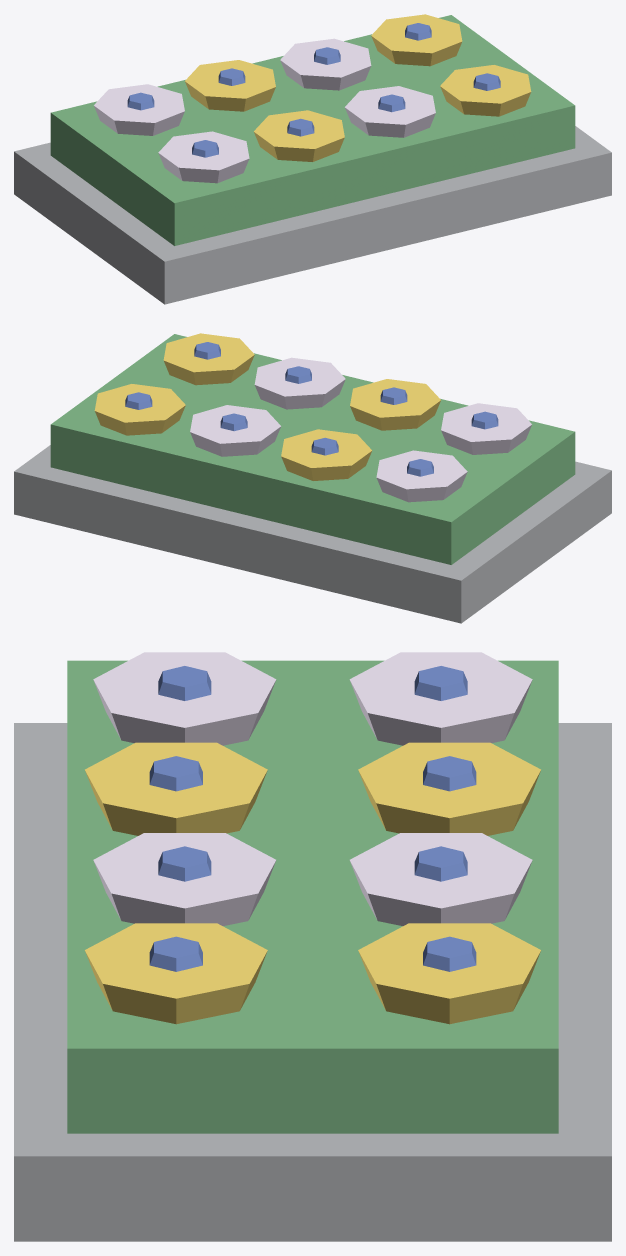
Rendered from flora_42_osteospermum_ecklonis_tham_cuc_mat_xanh_chau_phi_vuon_hoa_tp.glb.
3 views of the same model, one above another, from view 1: azimuth 30°, elevation 25°; view 2: azimuth 150°, elevation 25°; view 3: azimuth 270°, elevation 25° (orthographic). The views are drawn at different scales.
Visible parts, largest first — view 1: flora_42_osteospermum_ecklonis_tham_cuc_mat_xanh_chau_phi_vu; view 2: flora_42_osteospermum_ecklonis_tham_cuc_mat_xanh_chau_phi_vu; view 3: flora_42_osteospermum_ecklonis_tham_cuc_mat_xanh_chau_phi_vu.
Part boxes in pixels (bbox=[...]): flora_42_osteospermum_ecklonis_tham_cuc_mat_xanh_chau_phi_vu: bbox=[14, 14, 611, 304]; flora_42_osteospermum_ecklonis_tham_cuc_mat_xanh_chau_phi_vu: bbox=[14, 333, 611, 623]; flora_42_osteospermum_ecklonis_tham_cuc_mat_xanh_chau_phi_vu: bbox=[14, 652, 611, 1241].
Size of the model in its own units: 2.4 by 0.55 by 1.4.
